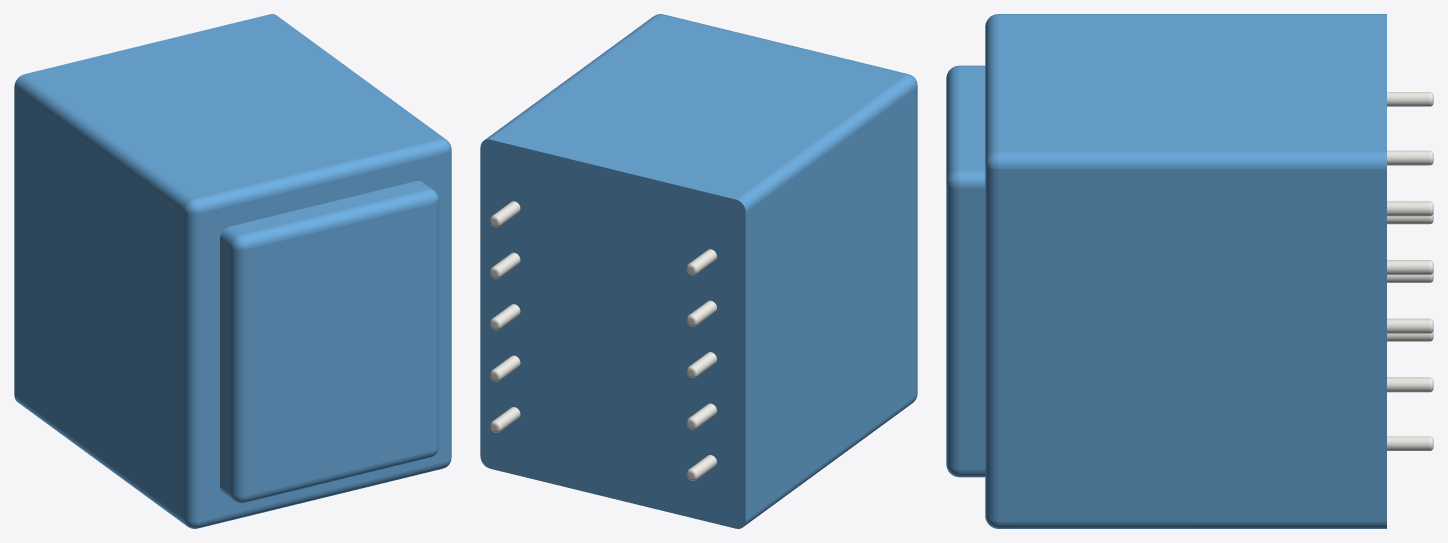
Rendered from Transformer_CHK_EI30-2VA_Neutral.glb.
The picture shows the model from 3 angles, left to right: view 1: azimuth 30°, elevation 25°; view 2: azimuth 150°, elevation 25°; view 3: azimuth 270°, elevation 25°; orthographic projection. The views are drawn at different scales.
Parts seen in each view (by area): view 1: Shape_IndexedFaceSet.069, Shape_IndexedFaceSet.043, Shape_IndexedFaceSet.066, Shape_IndexedFaceSet.047, Shape_IndexedFaceSet.056, Shape_IndexedFaceSet.054, Shape_IndexedFaceSet.050, Shape_IndexedFaceSet.073, Shape_IndexedFaceSet.049, Shape_IndexedFaceSet.057, Shape_IndexedFaceSet.059, Shape_IndexedFaceSet.053 (+5 smaller); view 2: Shape_IndexedFaceSet.072, Shape_IndexedFaceSet.069, Shape_IndexedFaceSet.066, Shape_IndexedFaceSet.073, Shape_IndexedFaceSet.074, Shape_IndexedFaceSet.070, Shape_IndexedFaceSet.056, Shape_IndexedFaceSet.054; view 3: Shape_IndexedFaceSet.063, Shape_IndexedFaceSet.066, Shape_IndexedFaceSet.052, Shape_IndexedFaceSet.070, Shape_IndexedFaceSet.053, Shape_IndexedFaceSet.045, Shape_IndexedFaceSet.071, Shape_IndexedFaceSet.059, Shape_IndexedFaceSet.054, Shape_IndexedFaceSet.049, Shape_IndexedFaceSet.073, Shape_IndexedFaceSet.004 (+6 smaller).
Part boxes in pixels (x1,y1,x2,y2): Shape_IndexedFaceSet.069: [14, 87, 184, 519]; Shape_IndexedFaceSet.043: [246, 204, 433, 495]; Shape_IndexedFaceSet.066: [24, 14, 439, 198]; Shape_IndexedFaceSet.047: [200, 153, 445, 521]; Shape_IndexedFaceSet.056: [184, 212, 200, 522]; Shape_IndexedFaceSet.054: [195, 139, 445, 212]; Shape_IndexedFaceSet.050: [231, 248, 246, 496]; Shape_IndexedFaceSet.073: [14, 74, 194, 210]; Shape_IndexedFaceSet.049: [241, 189, 433, 249]; Shape_IndexedFaceSet.057: [220, 239, 231, 493]; Shape_IndexedFaceSet.059: [230, 181, 427, 234]; Shape_IndexedFaceSet.053: [446, 149, 451, 461]; Shape_IndexedFaceSet.072: [480, 139, 745, 528]; Shape_IndexedFaceSet.069: [745, 88, 915, 520]; Shape_IndexedFaceSet.066: [490, 15, 905, 199]; Shape_IndexedFaceSet.073: [736, 75, 915, 211]; Shape_IndexedFaceSet.074: [744, 396, 915, 526]; Shape_IndexedFaceSet.070: [485, 14, 659, 139]; Shape_IndexedFaceSet.056: [916, 86, 917, 395]; Shape_IndexedFaceSet.054: [661, 14, 908, 74]; Shape_IndexedFaceSet.063: [998, 169, 1386, 521]; Shape_IndexedFaceSet.066: [998, 15, 1386, 151]; Shape_IndexedFaceSet.052: [959, 188, 985, 469]; Shape_IndexedFaceSet.070: [998, 152, 1386, 169]; Shape_IndexedFaceSet.053: [985, 164, 998, 521]; Shape_IndexedFaceSet.045: [946, 183, 959, 469]; Shape_IndexedFaceSet.071: [998, 521, 1386, 528]; Shape_IndexedFaceSet.059: [959, 67, 985, 170]; Shape_IndexedFaceSet.054: [985, 15, 998, 161]; Shape_IndexedFaceSet.049: [946, 67, 959, 181]; Shape_IndexedFaceSet.073: [998, 14, 1386, 15]; Shape_IndexedFaceSet.004: [1387, 377, 1429, 392].
Size of the model in its own units: 10.63 by 12.6 by 14.8.
